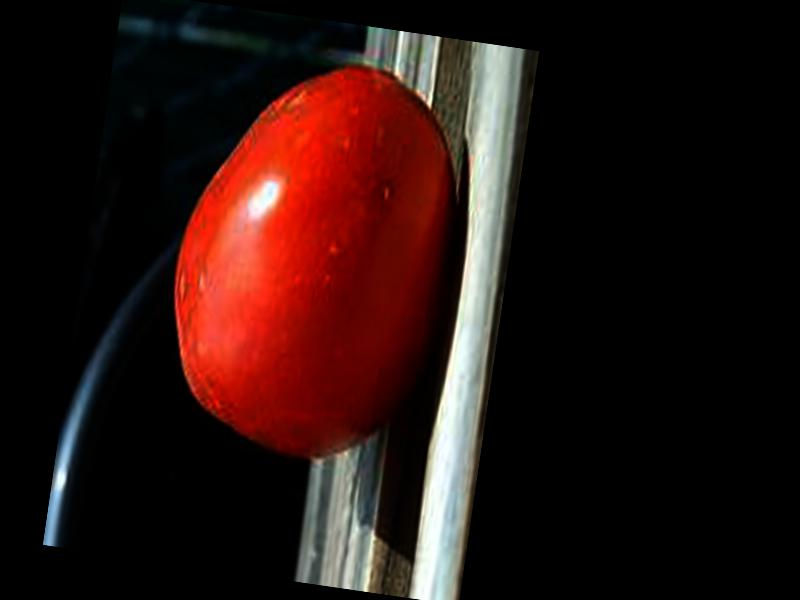Tomato: (151, 42, 474, 472)
